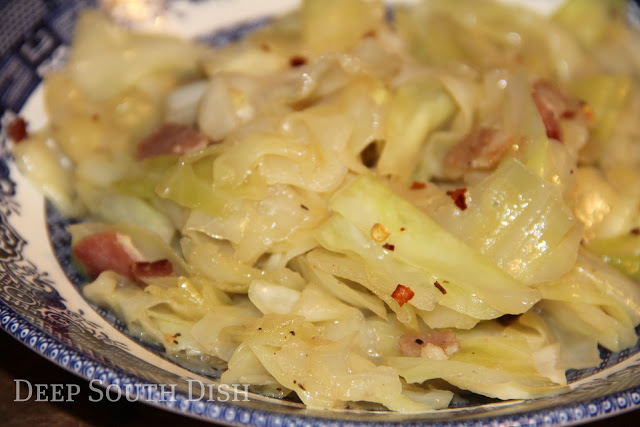chinese_cabbage: (88, 55, 631, 369), (77, 200, 443, 356), (246, 24, 612, 160), (388, 120, 640, 313), (238, 261, 577, 402), (81, 63, 313, 222)
